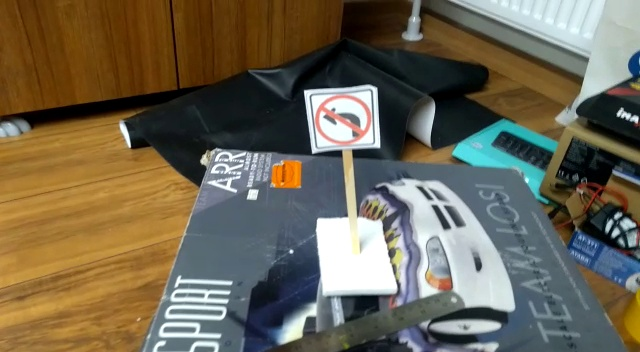sola_donulmez: (309, 92, 373, 143)
